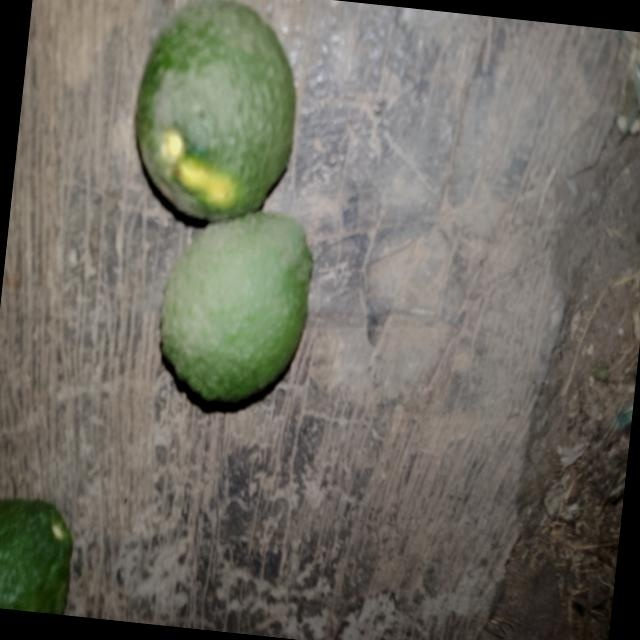agrume: (115, 0, 307, 270), (144, 198, 331, 426)
